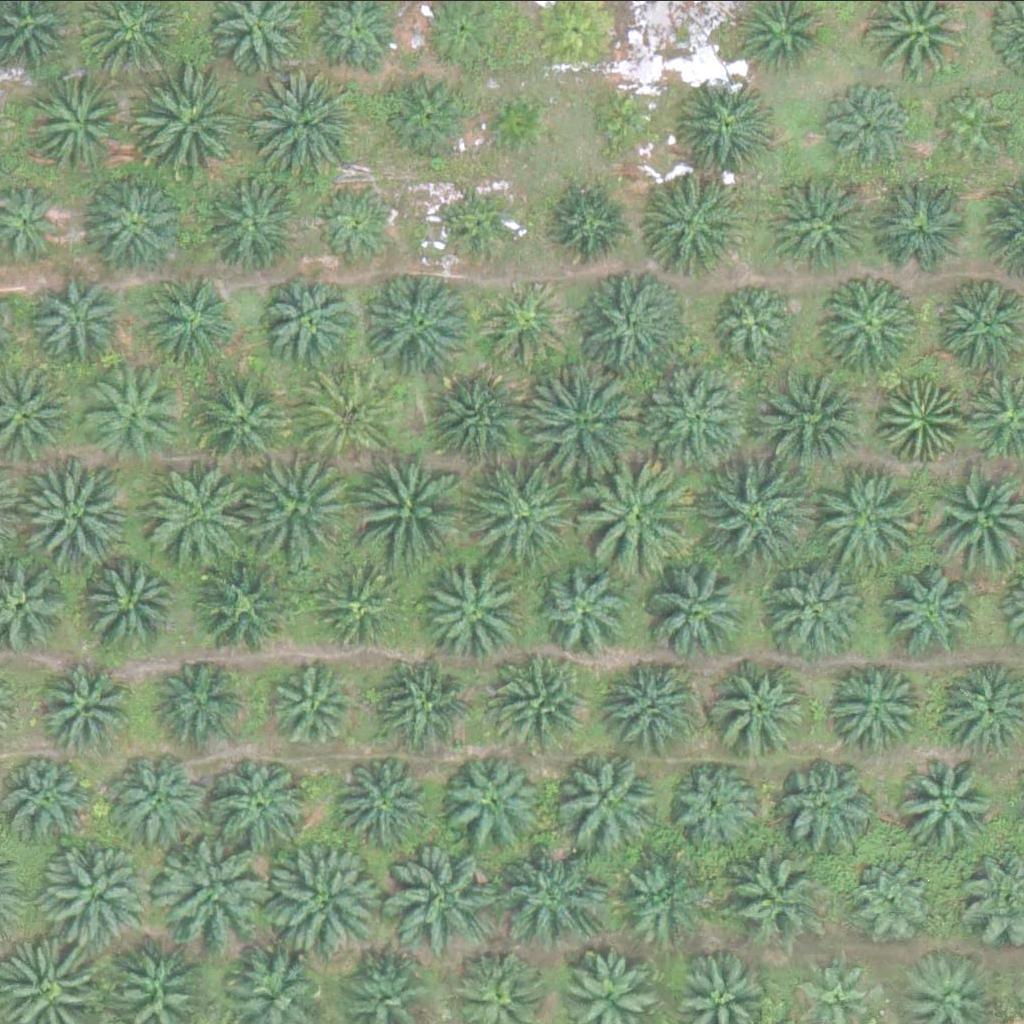Kelapa_Sawit: (469, 461, 583, 574), (241, 452, 355, 565), (816, 456, 929, 569), (700, 457, 813, 570), (248, 68, 361, 181), (136, 67, 249, 180), (149, 458, 262, 571), (20, 452, 133, 565), (269, 844, 382, 957), (153, 831, 266, 944), (39, 840, 152, 953), (637, 357, 751, 469), (344, 451, 458, 563), (496, 844, 609, 956), (583, 460, 696, 572), (531, 370, 644, 482), (752, 365, 865, 477), (572, 267, 685, 379), (362, 268, 475, 380), (385, 838, 498, 950), (608, 850, 709, 950), (719, 847, 820, 947), (442, 753, 543, 853), (896, 747, 997, 847), (710, 655, 811, 755), (486, 654, 587, 754), (537, 557, 638, 657), (647, 559, 748, 659), (883, 564, 984, 664), (814, 273, 915, 373), (778, 171, 879, 271), (869, 173, 970, 273), (676, 80, 777, 180), (29, 73, 130, 173), (89, 175, 190, 275), (202, 173, 303, 273), (261, 271, 362, 371), (79, 365, 180, 465), (189, 368, 290, 468), (374, 652, 475, 752), (207, 753, 308, 853), (333, 755, 434, 855), (2, 750, 102, 850), (561, 748, 661, 848), (778, 757, 878, 857), (826, 654, 926, 754), (597, 647, 697, 747), (428, 563, 528, 663), (765, 560, 865, 660), (432, 367, 532, 467), (640, 174, 740, 274), (298, 362, 398, 462), (80, 551, 180, 651), (194, 551, 294, 651), (145, 648, 245, 748), (36, 656, 136, 756), (109, 747, 209, 847), (851, 855, 939, 943), (315, 180, 403, 268), (147, 277, 235, 365), (38, 278, 126, 366), (313, 564, 401, 652), (275, 662, 363, 750), (480, 278, 568, 365), (672, 761, 760, 848), (872, 375, 960, 462), (714, 274, 802, 361), (544, 179, 632, 266), (821, 81, 909, 168), (387, 75, 475, 162), (479, 87, 555, 162), (587, 83, 663, 158), (450, 181, 525, 256), (935, 86, 1010, 161)
